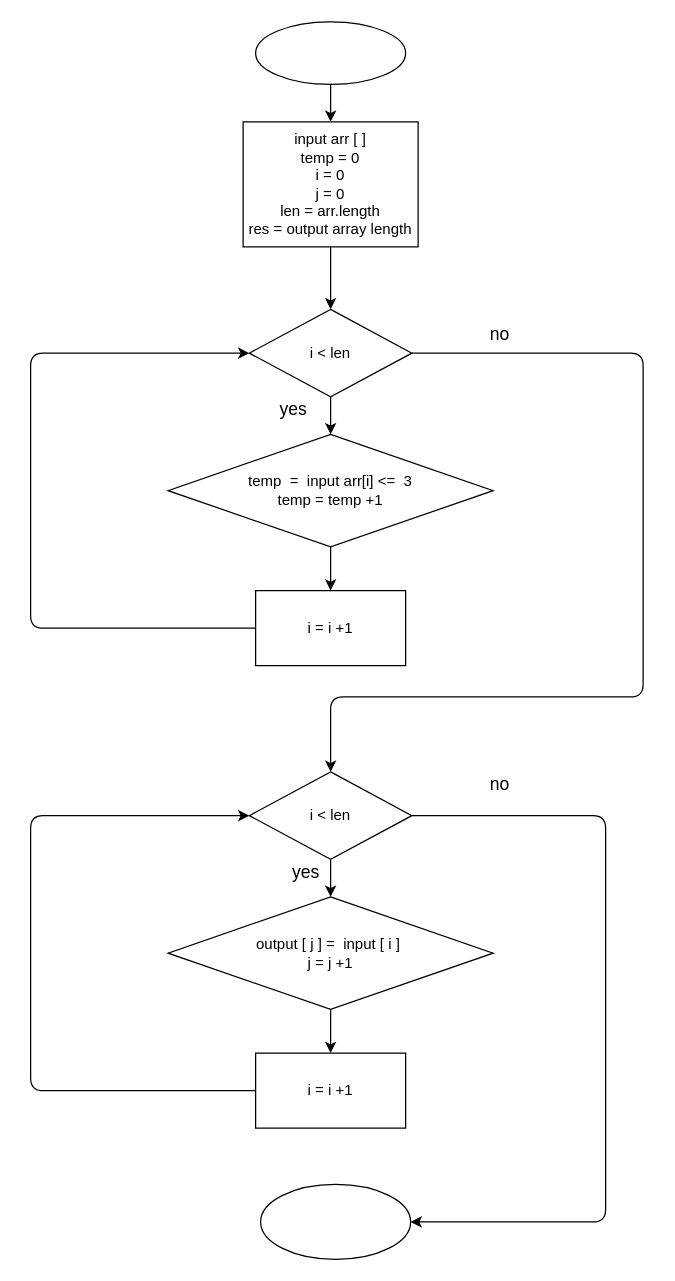
The diagram is 675 pixels wide and 1281 high, and some of its shapes have lost their labels. The shapes that lost their labels are listed below. From the top down, each one's centre as x and y in pixels, then its label:
At pixel 330 52: "Start".
At pixel 335 1221: "End".
